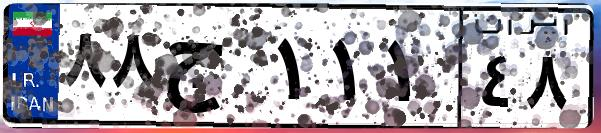1: (270, 28, 330, 110), (385, 28, 445, 110), (330, 28, 385, 110)
4: (475, 38, 525, 113)
8: (57, 26, 110, 100), (525, 38, 570, 115), (110, 28, 158, 98)
ج: (158, 20, 270, 120)
